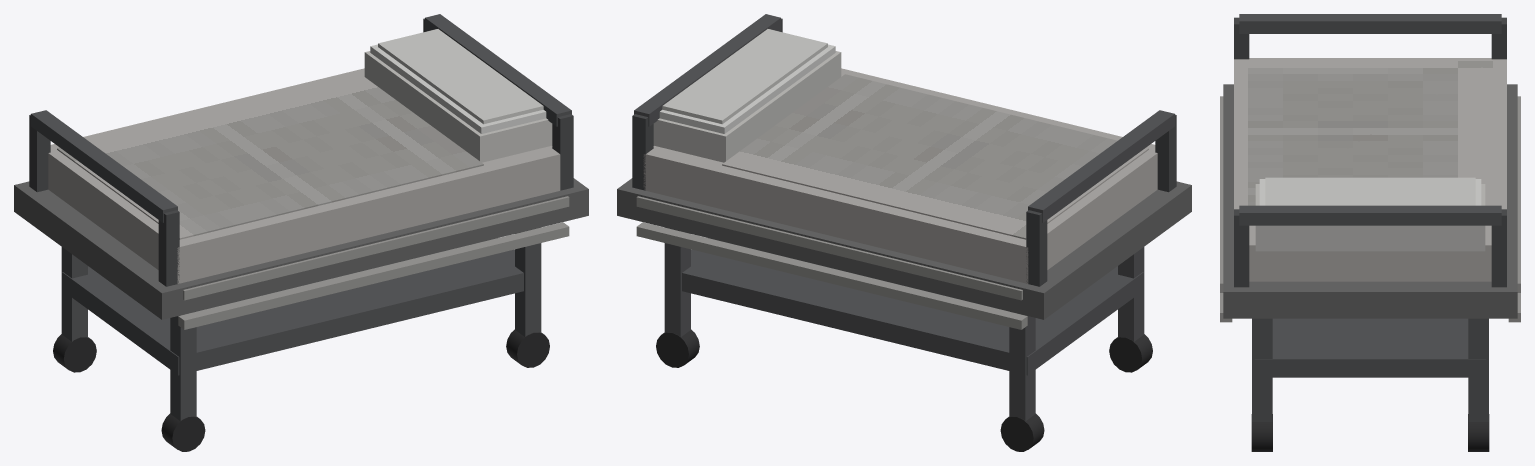
Rendered from CMU3DHospitalRollerBed.glb.
The picture shows the model from 3 angles, left to right: view 1: azimuth 30°, elevation 25°; view 2: azimuth 150°, elevation 25°; view 3: azimuth 270°, elevation 25°; orthographic projection.
Visible parts, largest first — view 1: Sheet source pixels, mattress, lower carriage, trolley deck, lowered side rail (×2), pillow face, end handle (×2), caster upright (×3), pillow, end handle post (×3), caster wheel (×3), pillow upper cushion; view 2: Sheet source pixels, mattress, lower carriage, trolley deck, lowered side rail (×2), pillow face, end handle (×2), caster upright (×3), pillow, end handle post (×3), caster wheel (×3), pillow upper cushion; view 3: Sheet source pixels, trolley deck, mattress, lower carriage, end handle (×2), pillow, pillow face, caster upright (×2), end handle post (×4), lowered side rail (×2), caster wheel (×2), pillow upper cushion.
Part boxes in pixels (bbox=[...]): Sheet source pixels: bbox=[57, 74, 483, 239]; mattress: bbox=[48, 68, 560, 283]; lower carriage: bbox=[62, 238, 523, 375]; trolley deck: bbox=[14, 178, 588, 319]; lowered side rail (×2): bbox=[178, 196, 569, 329]; pillow face: bbox=[378, 29, 543, 124]; end handle (×2): bbox=[31, 14, 571, 222]; caster upright (×3): bbox=[61, 228, 541, 420]; pillow: bbox=[364, 51, 552, 162]; end handle post (×3): bbox=[29, 114, 573, 286]; caster wheel (×3): bbox=[53, 329, 549, 451]; pillow upper cushion: bbox=[370, 44, 546, 133]; Sheet source pixels: bbox=[722, 74, 1148, 239]; mattress: bbox=[643, 68, 1157, 283]; lower carriage: bbox=[682, 238, 1143, 375]; trolley deck: bbox=[617, 178, 1191, 319]; lowered side rail (×2): bbox=[636, 196, 1027, 329]; pillow face: bbox=[662, 29, 827, 124]; end handle (×2): bbox=[634, 14, 1174, 222]; caster upright (×3): bbox=[664, 228, 1144, 420]; pillow: bbox=[653, 51, 841, 162]; end handle post (×3): bbox=[632, 114, 1176, 286]; caster wheel (×3): bbox=[656, 329, 1152, 451]; pillow upper cushion: bbox=[659, 44, 835, 133]; Sheet source pixels: bbox=[1248, 61, 1492, 205]; trolley deck: bbox=[1223, 84, 1517, 318]; mattress: bbox=[1234, 58, 1506, 281]; lower carriage: bbox=[1254, 318, 1486, 377]; end handle (×2): bbox=[1239, 14, 1501, 225]; pillow: bbox=[1255, 184, 1485, 251]; pillow face: bbox=[1265, 177, 1475, 205]; caster upright (×2): bbox=[1252, 318, 1488, 421]; end handle post (×4): bbox=[1234, 17, 1506, 287]; lowered side rail (×2): bbox=[1220, 96, 1520, 292]; caster wheel (×2): bbox=[1251, 414, 1489, 451]; pillow upper cushion: bbox=[1259, 179, 1481, 205].
Size of the model in its own units: 0.954 by 0.542 by 0.584.
10 materials, 1 textured.
